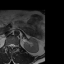CCS_normal: (11, 42, 13, 51)
LFS_normal: (15, 42, 17, 48)
LLS_normal: (13, 42, 15, 48)
RFS_normal: (7, 42, 8, 48)
RLS_normal: (8, 42, 11, 48)
